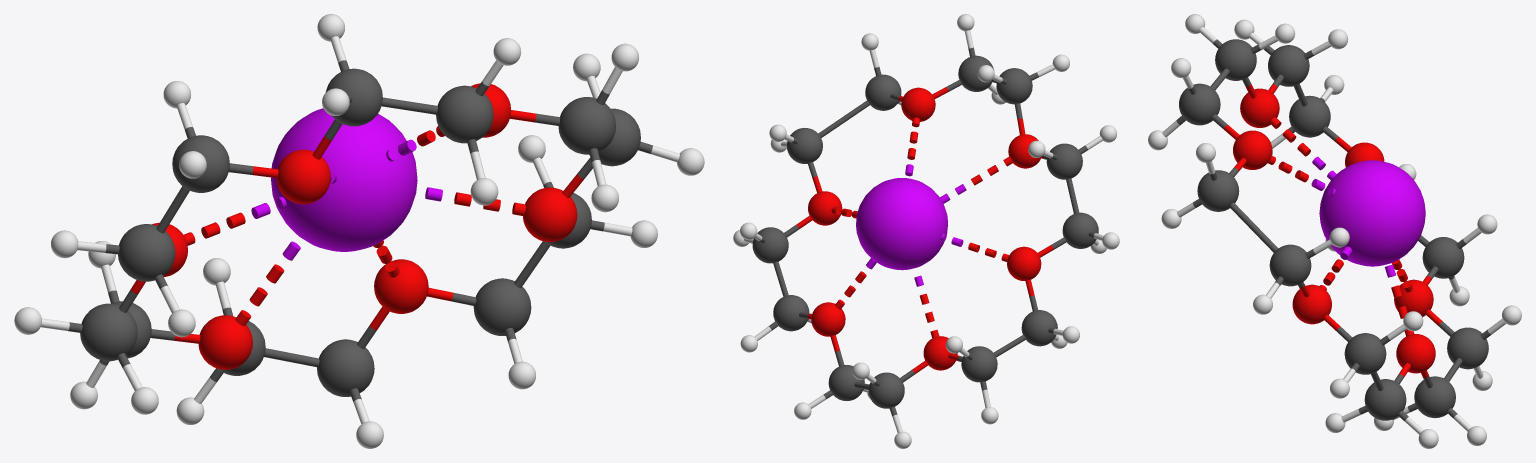
Rendered from 18-Crown-6-K.fbx.
The picture shows the model from 3 angles, left to right: view 1: azimuth 30°, elevation 25°; view 2: azimuth 150°, elevation 25°; view 3: azimuth 270°, elevation 25°; orthographic projection. The views are drawn at different scales.
Visible parts, largest first — view 1: K43, C09, C05, C01, C17, C16, C12, O07, O14, O03, O11, C08 (+9 smaller); view 2: K43, C04, C08, C13, C06, C05, C01, C16, C17, C15, C18, O02 (+8 smaller); view 3: K43, C18, C15, C13, C17, C05, C16, C08, C09, C04, C06, C12 (+10 smaller).
Boxes of the visible parts, <box> form: K43: <box>271,108,417,251</box>; C09: <box>436,85,493,143</box>; C05: <box>118,224,175,281</box>; C01: <box>80,303,137,361</box>; C17: <box>558,97,615,154</box>; C16: <box>473,278,531,335</box>; C12: <box>317,339,374,396</box>; O07: <box>276,149,330,204</box>; O14: <box>523,187,577,242</box>; O03: <box>198,315,252,369</box>; O11: <box>374,259,428,313</box>; C08: <box>325,68,382,126</box>; K43: <box>856,178,947,270</box>; C04: <box>961,346,997,382</box>; C08: <box>996,68,1032,104</box>; C13: <box>868,372,904,408</box>; C06: <box>1046,143,1082,179</box>; C05: <box>1062,212,1098,248</box>; C01: <box>1021,310,1057,346</box>; C16: <box>773,295,809,331</box>; C17: <box>865,74,901,110</box>; C15: <box>752,227,788,263</box>; C18: <box>787,128,822,163</box>; O02: <box>1007,246,1041,280</box>; K43: <box>1319,160,1425,266</box>; C18: <box>1269,244,1311,286</box>; C15: <box>1344,333,1386,374</box>; C13: <box>1447,327,1488,369</box>; C17: <box>1197,170,1239,211</box>; C05: <box>1289,95,1330,137</box>; C16: <box>1364,379,1406,420</box>; C08: <box>1215,39,1256,80</box>; C09: <box>1179,83,1220,125</box>; C04: <box>1422,237,1464,278</box>; C06: <box>1268,45,1309,86</box>; C12: <box>1414,376,1455,418</box>.
Bounding box in the file's own units: 934 × 752 × 689.
